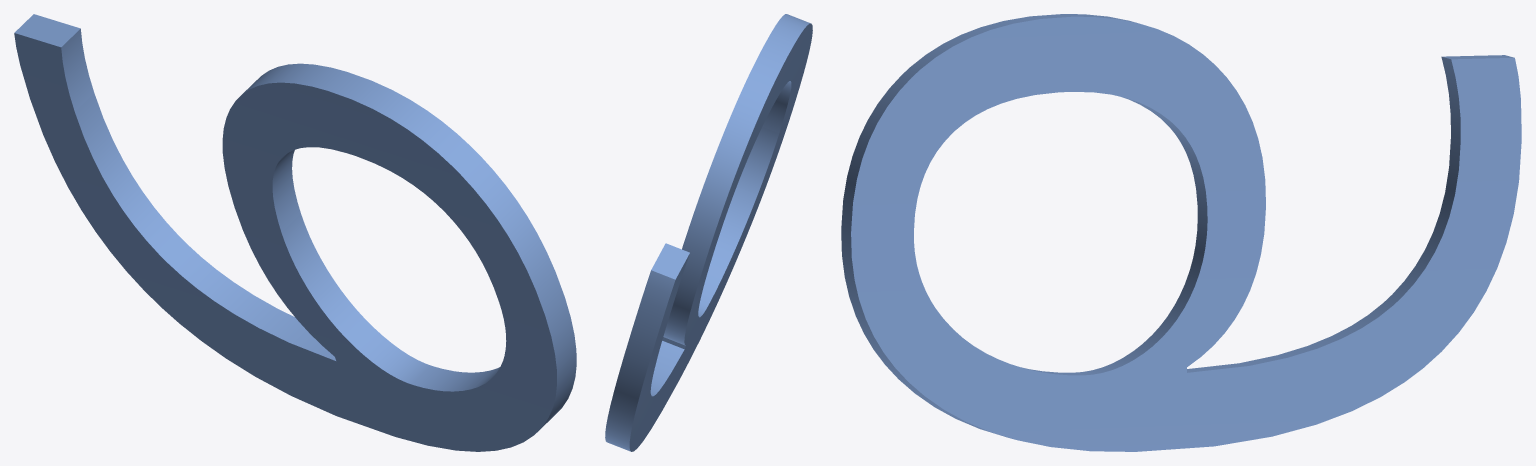
Rendered from New_Number_6.gltf.
The picture shows the model from 3 angles, left to right: view 1: azimuth 30°, elevation 25°; view 2: azimuth 150°, elevation 25°; view 3: azimuth 270°, elevation 25°; orthographic projection. The views are drawn at different scales.
Visible parts, largest first — view 1: Part 708; view 2: Part 708; view 3: Part 708.
Boxes of the visible parts, x1,y1,x2,y2 form: Part 708: (14,14,576,451); Part 708: (605,14,812,451); Part 708: (841,14,1521,451).
Bounding box in the file's own units: 0.00226 × 0.0036 × 0.00554.
